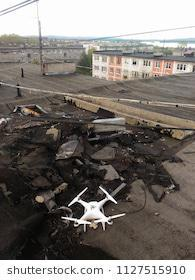drone: (37, 179, 144, 249)
